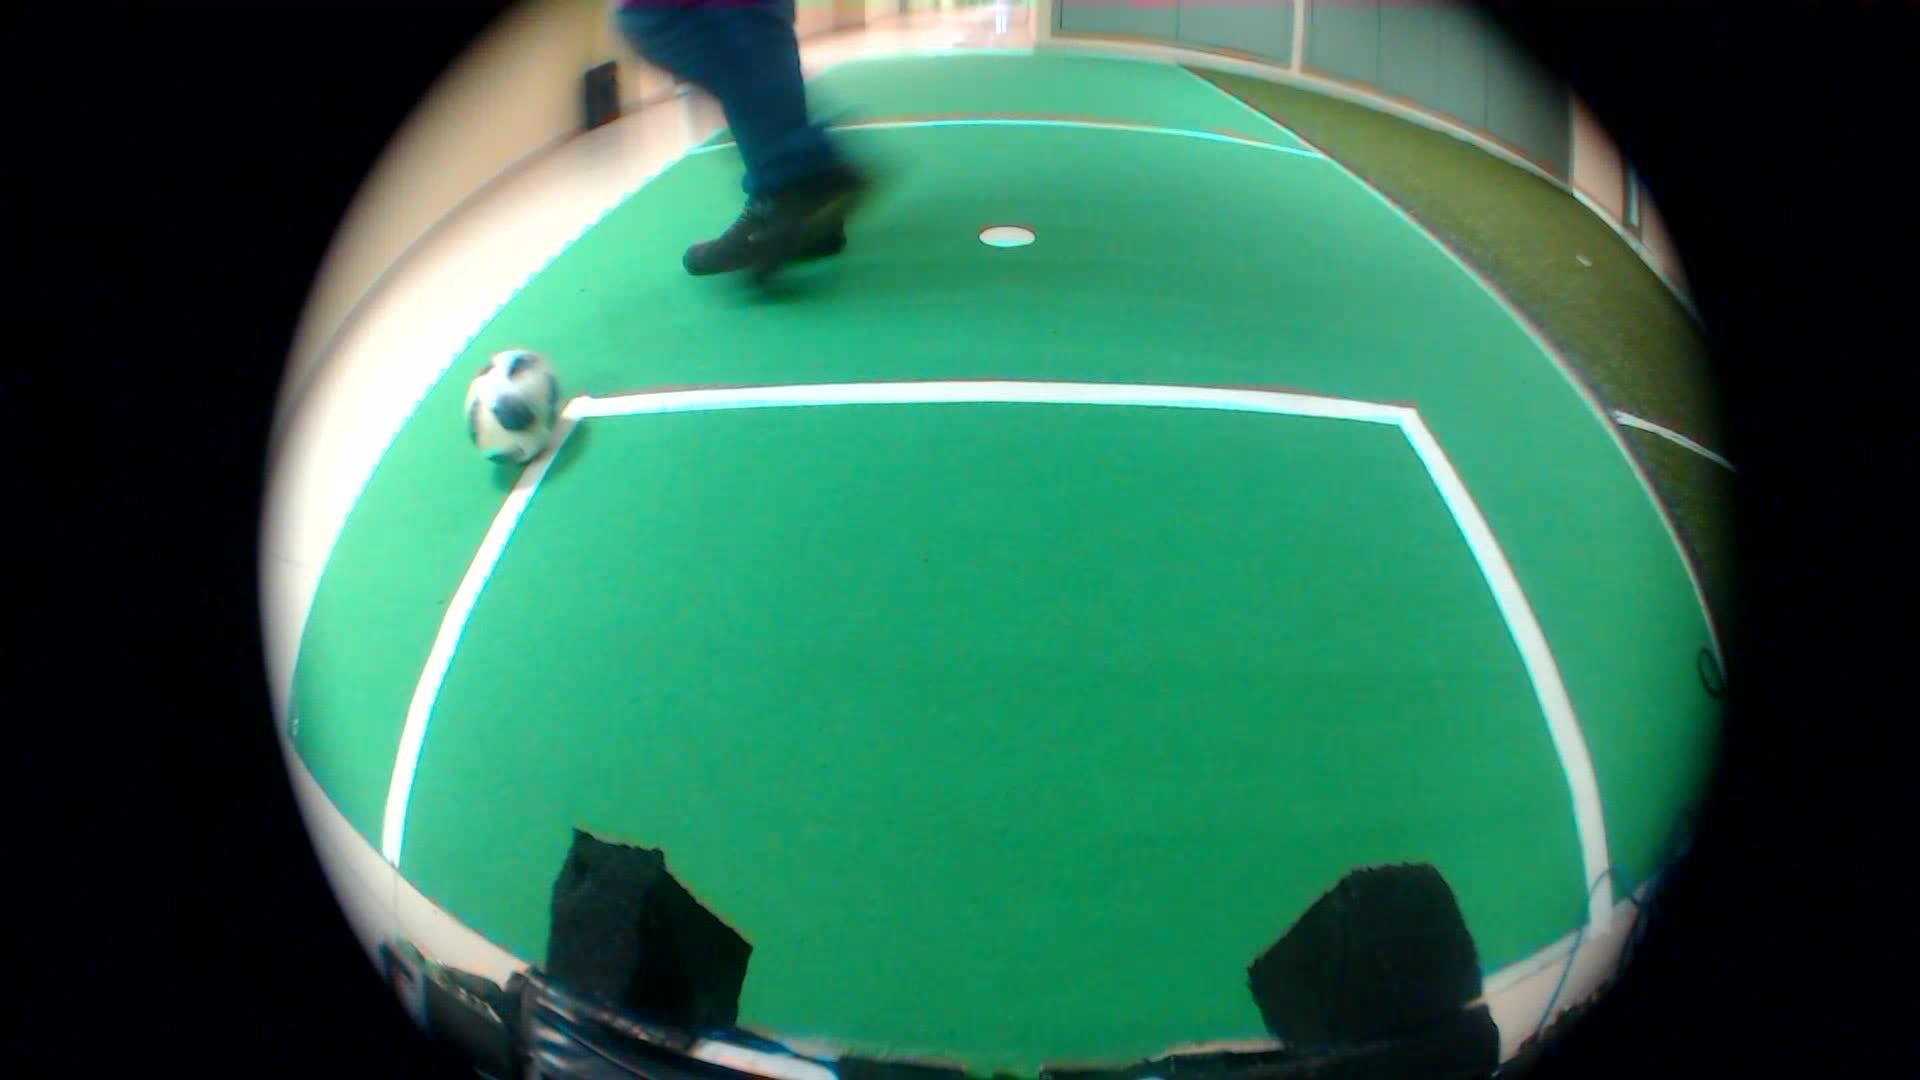ball: (454, 345, 576, 480)
